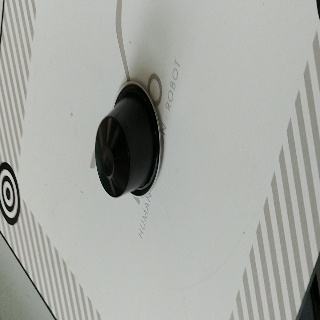capsule_10: (94, 79, 163, 197)
